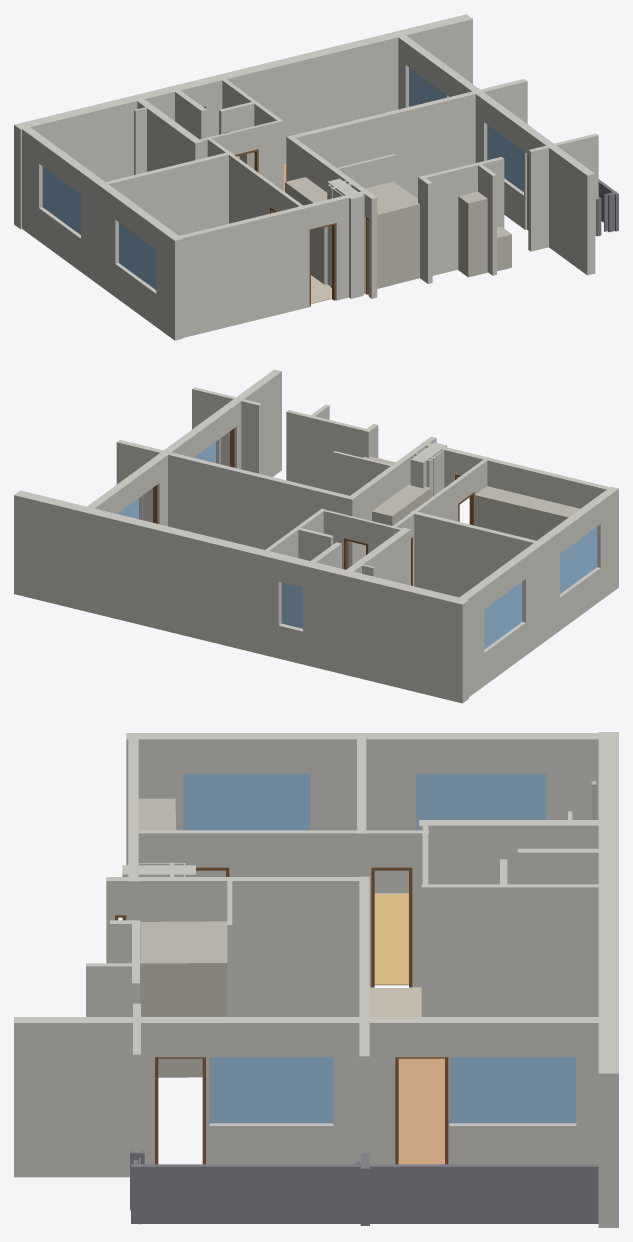
The picture shows the model from 3 angles, top to bottom: view 1: azimuth 30°, elevation 25°; view 2: azimuth 150°, elevation 25°; view 3: azimuth 270°, elevation 25°; orthographic projection. The views are drawn at different scales.
Visible parts, largest first — view 1: walls, furniture_3_closet, furniture_5_closet, furniture_2_closet, window_5, window_4, window_8, railings, window_0, furniture_10_appliance, door_7; view 2: walls, furniture_4_closet, window_5, window_4, furniture_2_closet, window_2; view 3: walls, railings, furniture_3_closet, window_0, window_8, window_4, window_5, floor_3_Living_Room, floor_0_Kitchen, floor_4_Entry, furniture_4_closet, door_10 (+2 smaller).
Part boxes in pixels (x1=…): walls: x1=14, y1=14, x2=598, y2=340; furniture_3_closet: x1=365, y1=181, x2=419, y2=288; furniture_5_closet: x1=458, y1=191, x2=487, y2=277; furniture_2_closet: x1=285, y1=177, x2=327, y2=284; window_5: x1=42, y1=166, x2=80, y2=234; window_4: x1=119, y1=222, x2=156, y2=289; window_8: x1=487, y1=125, x2=523, y2=191; railings: x1=596, y1=179, x2=618, y2=236; window_0: x1=409, y1=67, x2=446, y2=106; furniture_10_appliance: x1=497, y1=226, x2=511, y2=271; door_7: x1=309, y1=223, x2=335, y2=306; walls: x1=14, y1=369, x2=618, y2=703; furniture_4_closet: x1=475, y1=486, x2=579, y2=540; window_5: x1=484, y1=582, x2=522, y2=649; window_4: x1=560, y1=527, x2=597, y2=593; furniture_2_closet: x1=372, y1=483, x2=431, y2=525; window_2: x1=281, y1=582, x2=302, y2=628; walls: x1=14, y1=732, x2=618, y2=1227; railings: x1=130, y1=1148, x2=598, y2=1225; furniture_3_closet: x1=140, y1=921, x2=227, y2=1077; window_0: x1=449, y1=1057, x2=576, y2=1123; window_8: x1=209, y1=1057, x2=333, y2=1123; window_4: x1=183, y1=773, x2=310, y2=830; window_5: x1=416, y1=773, x2=546, y2=830; floor_3_Living_Room: x1=398, y1=1058, x2=444, y2=1164; floor_0_Kitchen: x1=374, y1=894, x2=408, y2=985; floor_4_Entry: x1=369, y1=988, x2=421, y2=1016; furniture_4_closet: x1=138, y1=798, x2=176, y2=830; door_10: x1=371, y1=867, x2=412, y2=987.
Size of the model in its own units: 12.81 by 2.72 by 9.59.
